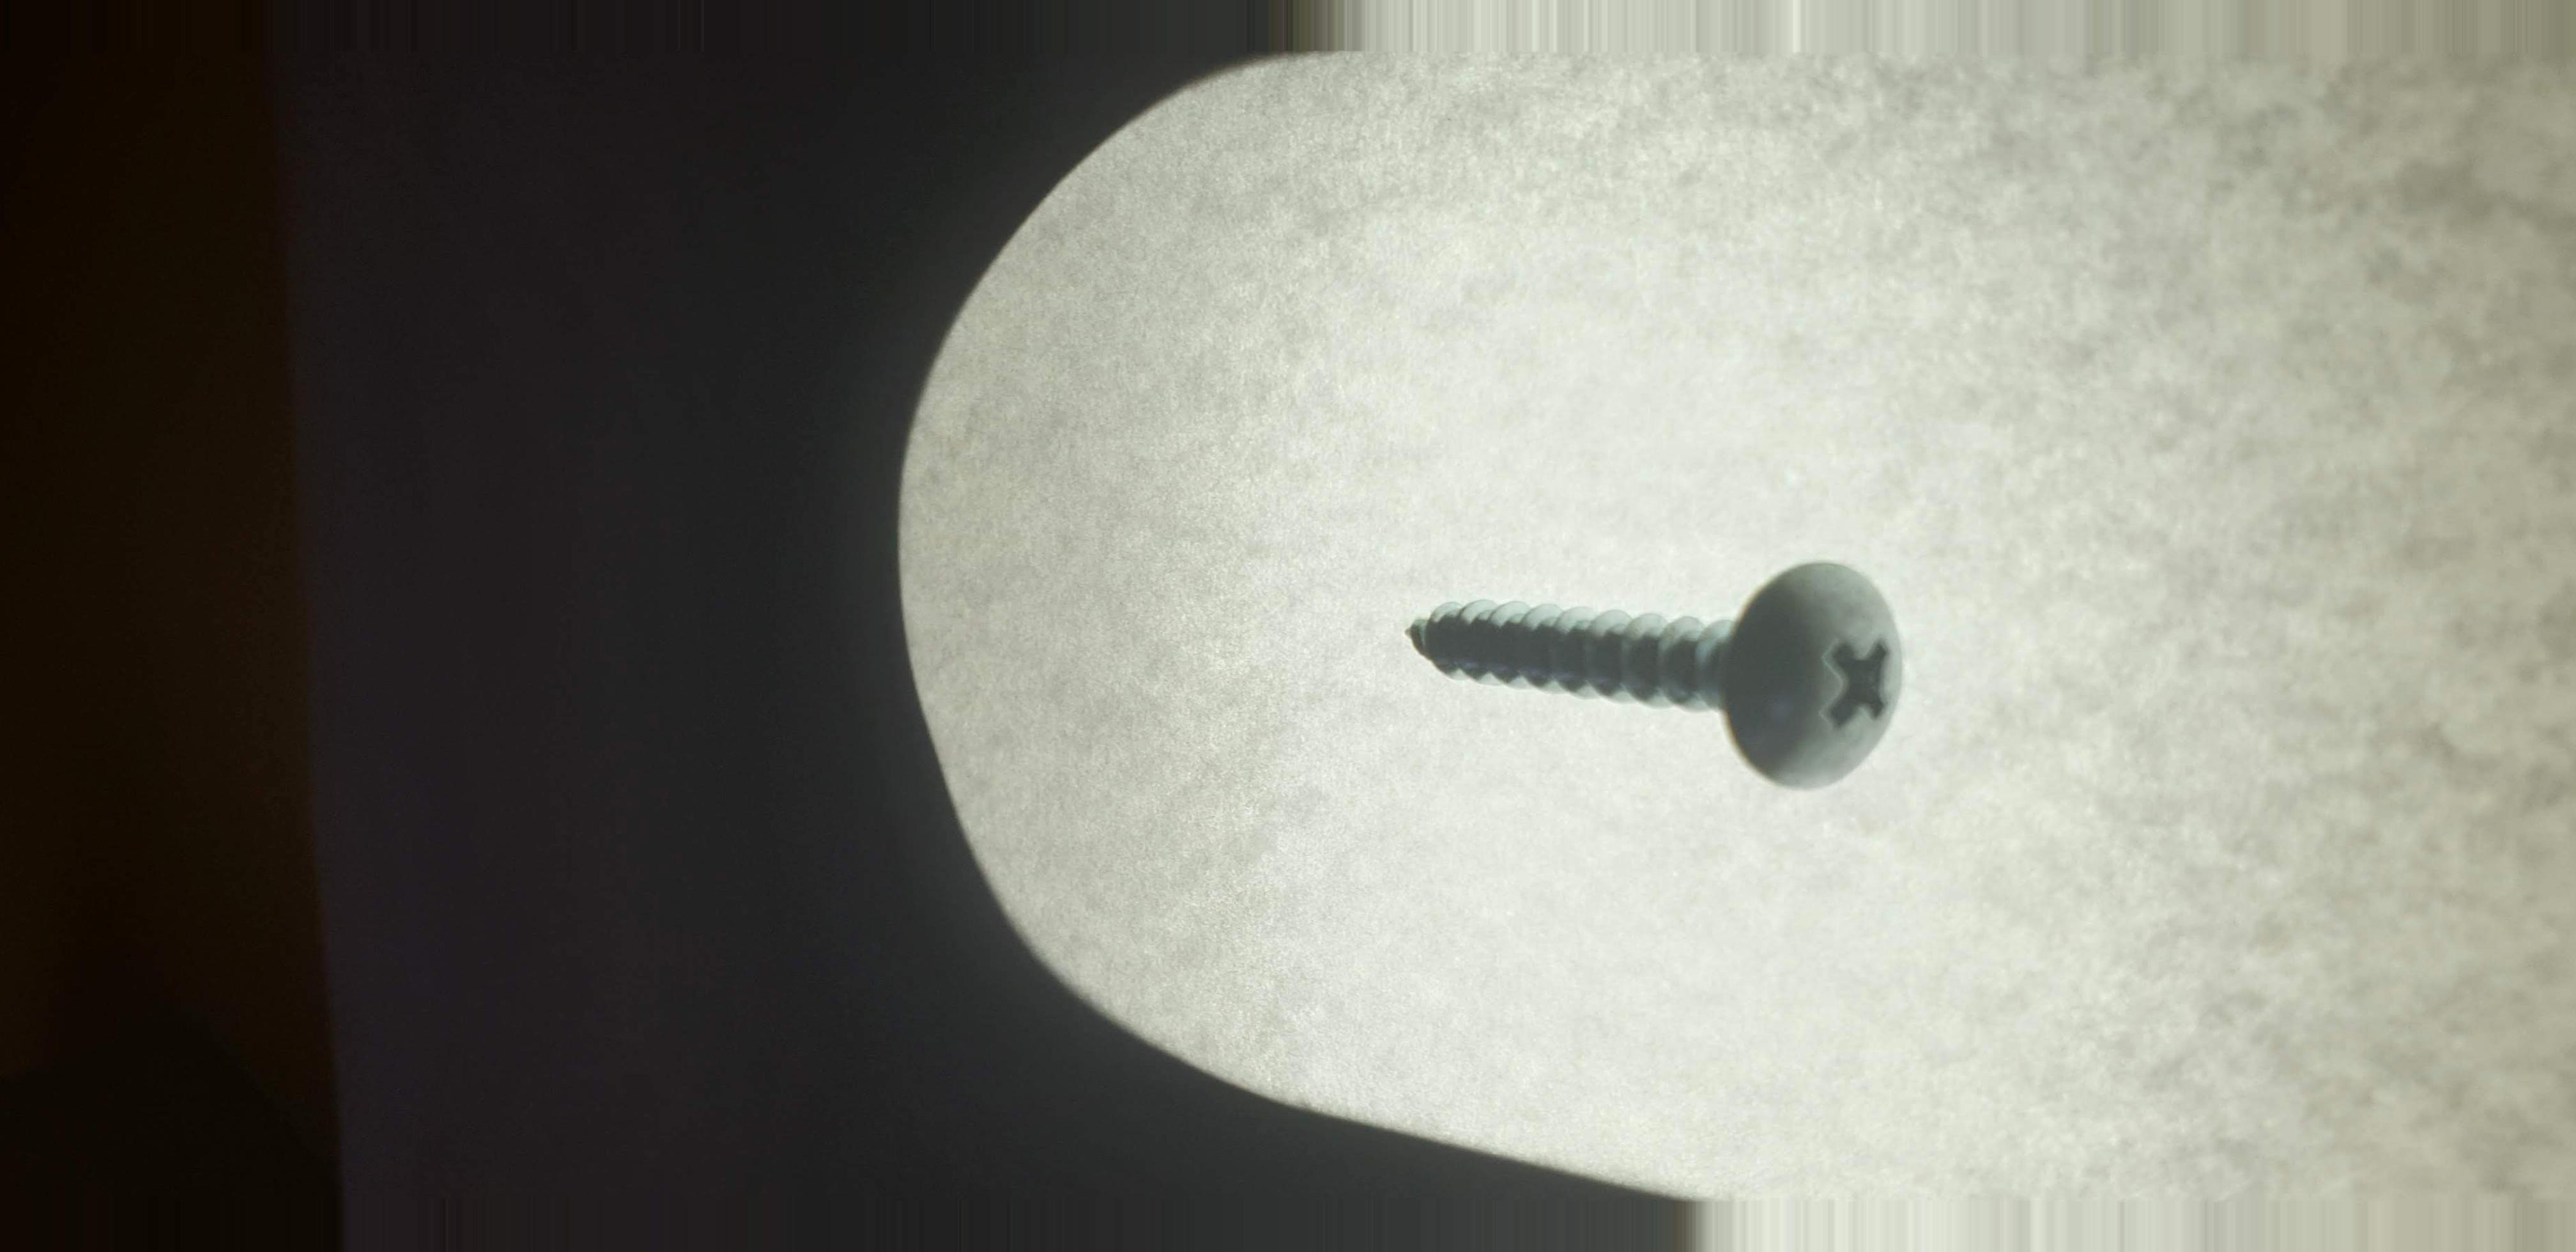S002: (1345, 498, 1957, 843)
